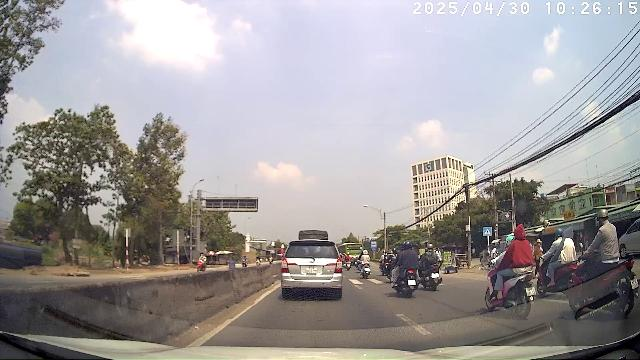423a-duong-nguoi-di-bo-sang-ngang-1: (483, 227, 492, 236)
